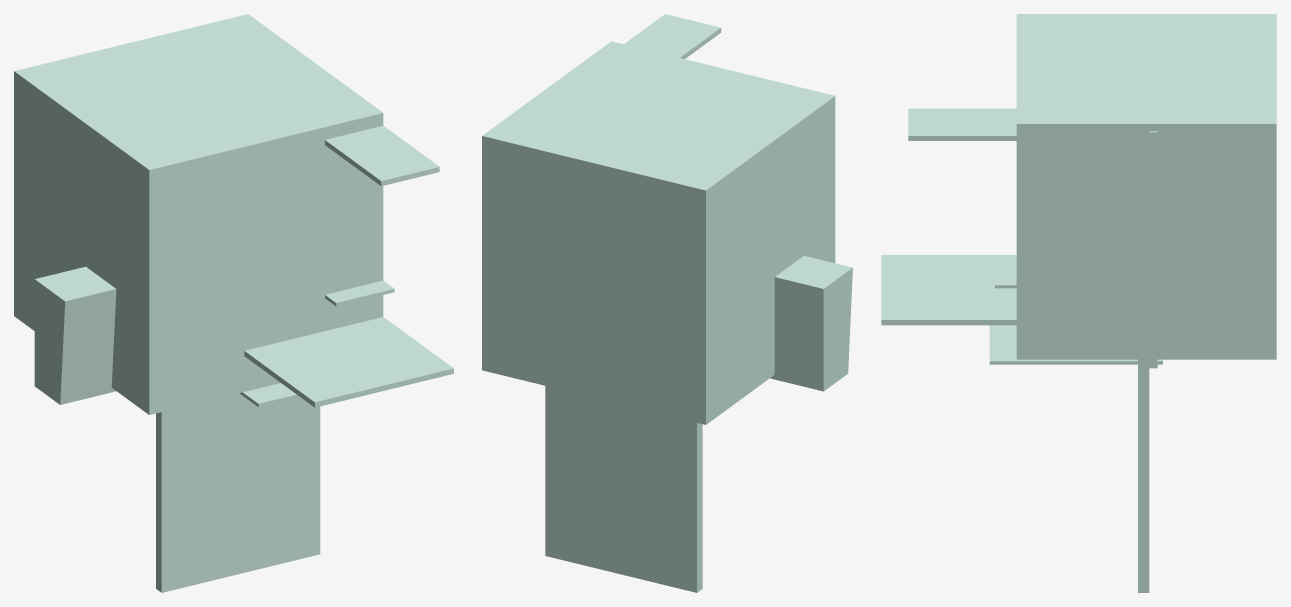
The picture shows the model from 3 angles, left to right: view 1: azimuth 30°, elevation 25°; view 2: azimuth 150°, elevation 25°; view 3: azimuth 270°, elevation 25°; orthographic projection. The views are drawn at different scales.
Parts seen in each view (by area): view 1: Renderer Node; view 2: Renderer Node; view 3: Renderer Node.
Boxes of the visible parts, x1=… form: Renderer Node: x1=14, y1=14, x2=453, y2=592; Renderer Node: x1=482, y1=14, x2=852, y2=592; Renderer Node: x1=881, y1=14, x2=1276, y2=592.
Size of the model in its own units: 0.9219 by 1.49 by 1.14.
